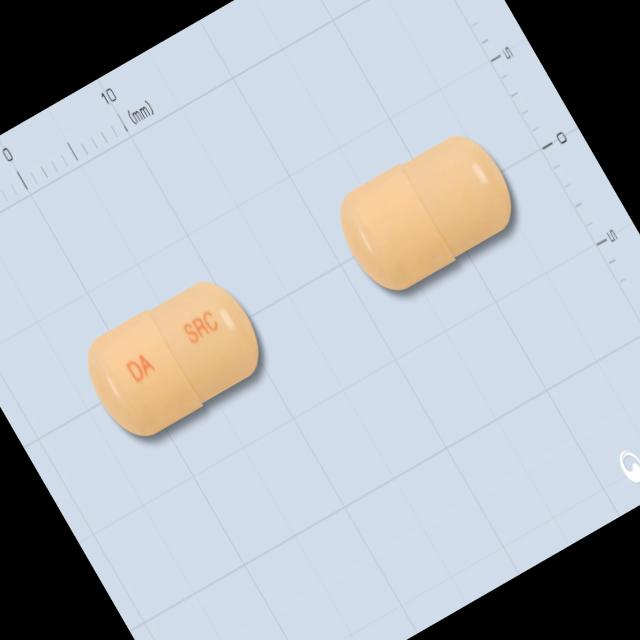Suprax Cap- Dong-A: (70, 264, 278, 451)
